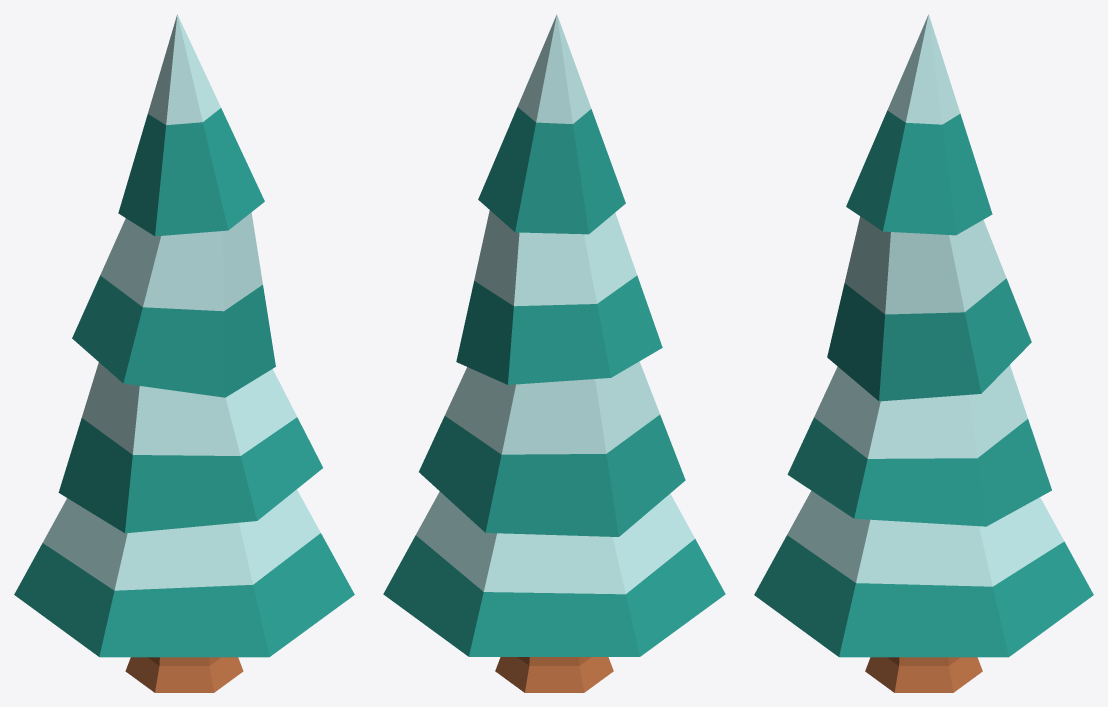
Rendered from treePineSnow.dae.
The picture shows the model from 3 angles, left to right: view 1: azimuth 30°, elevation 25°; view 2: azimuth 150°, elevation 25°; view 3: azimuth 270°, elevation 25°; orthographic projection.
Visible parts, largest first — view 1: treePineSnow; view 2: treePineSnow; view 3: treePineSnow.
Part boxes in pixels (bbox=[...]): treePineSnow: bbox=[14, 14, 354, 692]; treePineSnow: bbox=[383, 14, 725, 692]; treePineSnow: bbox=[754, 14, 1093, 692].
Size of the model in its own units: 0.651 by 1.6 by 0.7517.
